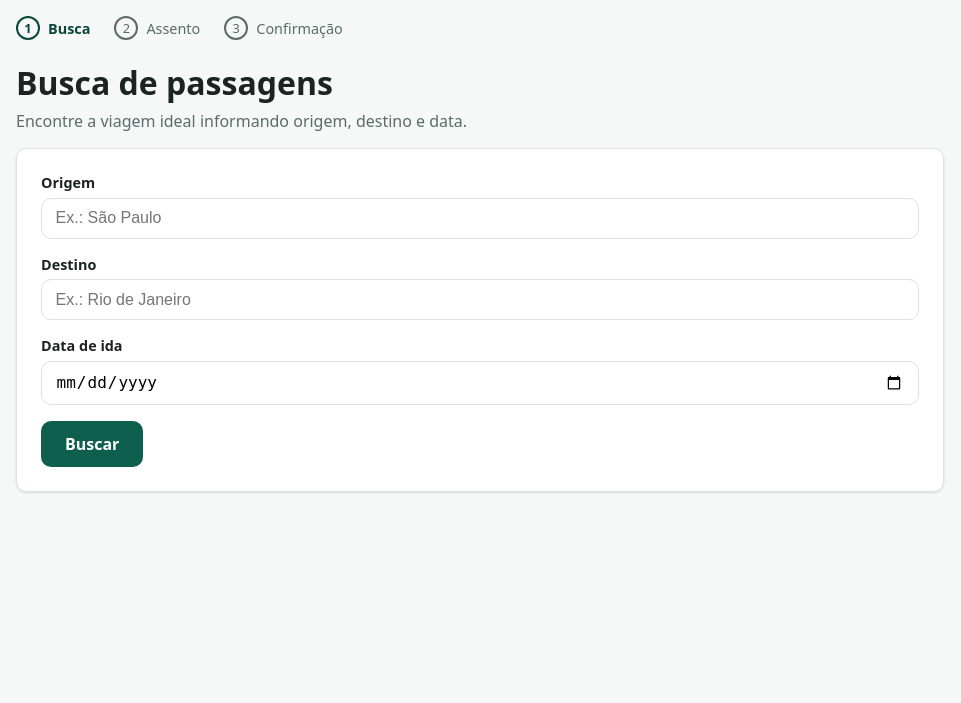
it: SearchPage › mostra estado de carregamento e depois a lista de viagens encontradas
What coordinates should you click on to do the following:
click the button "Buscar"
I would click on:
 (92, 444)
Its box is [41,420,143,466].
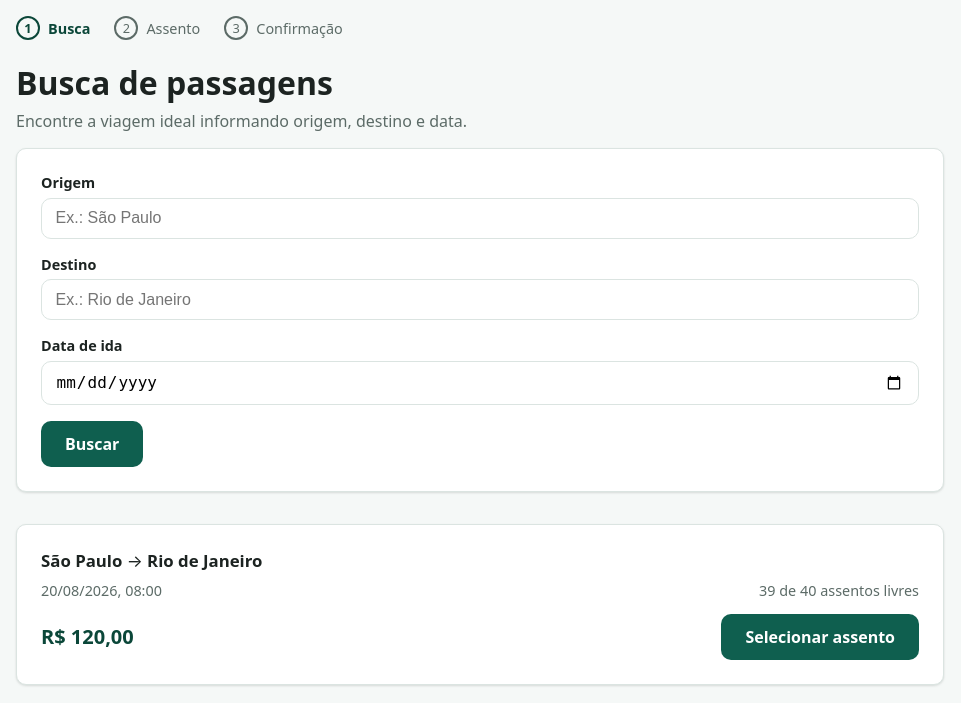
Check: the text "São Paulo" is shown, box [41,548,122,572]
Check: the text "Rio de Janeiro" is shown, box [147,548,262,572]
